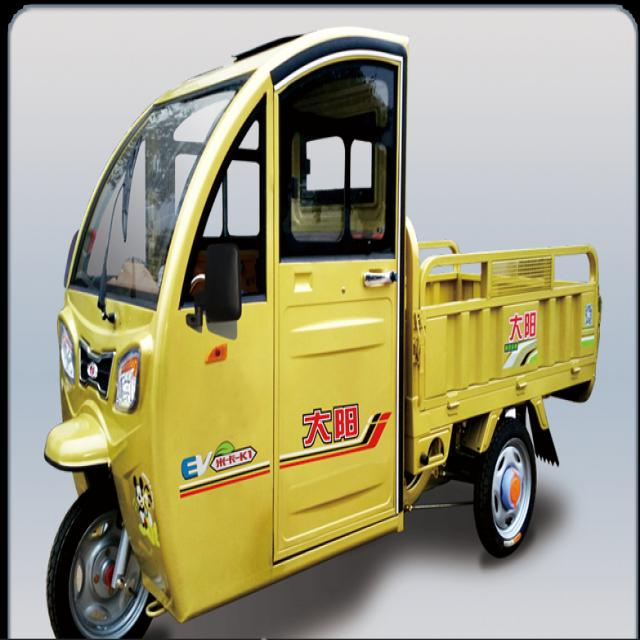tricycle: (42, 24, 601, 639)
